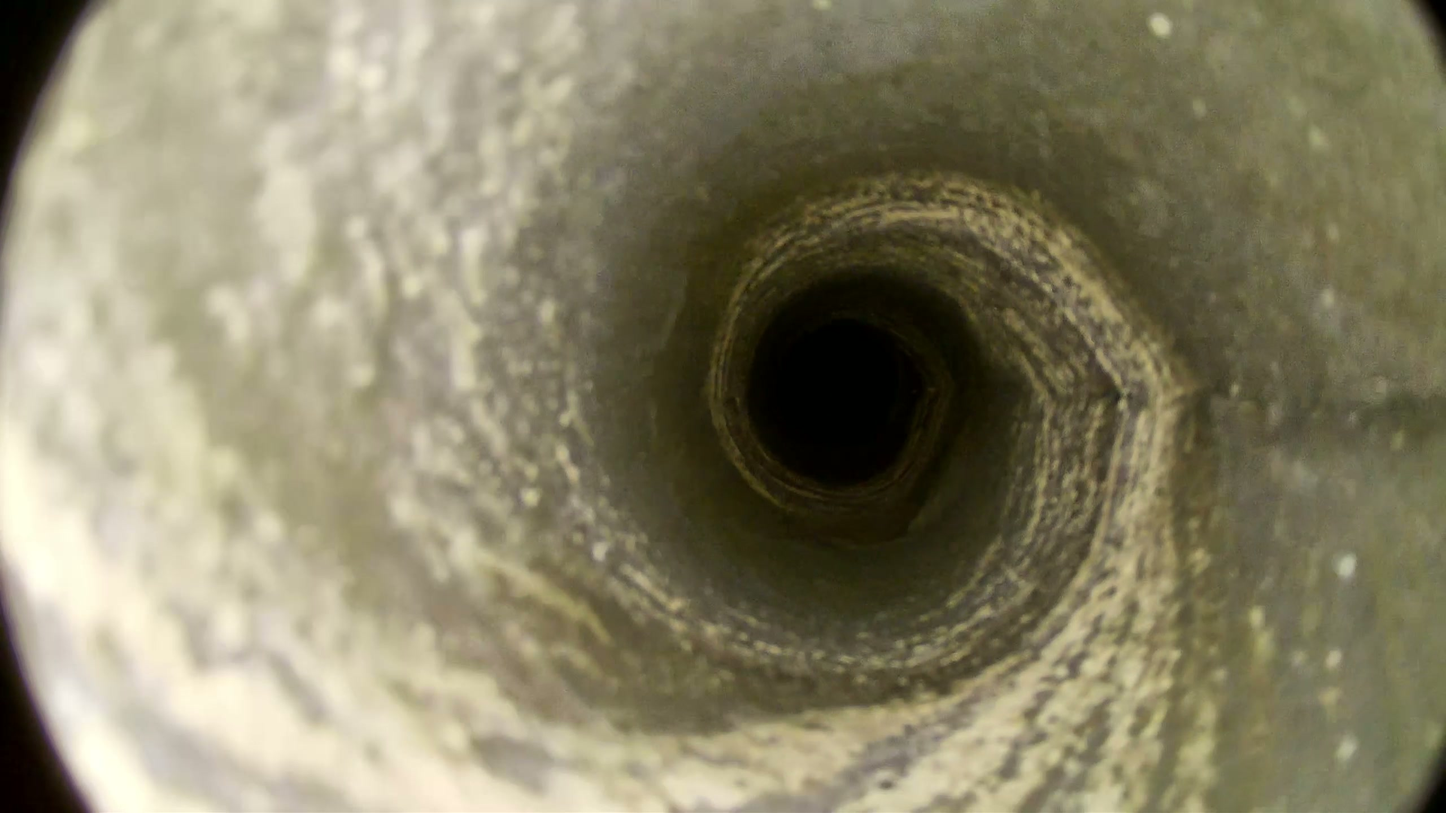hole: (780, 329, 897, 445)
